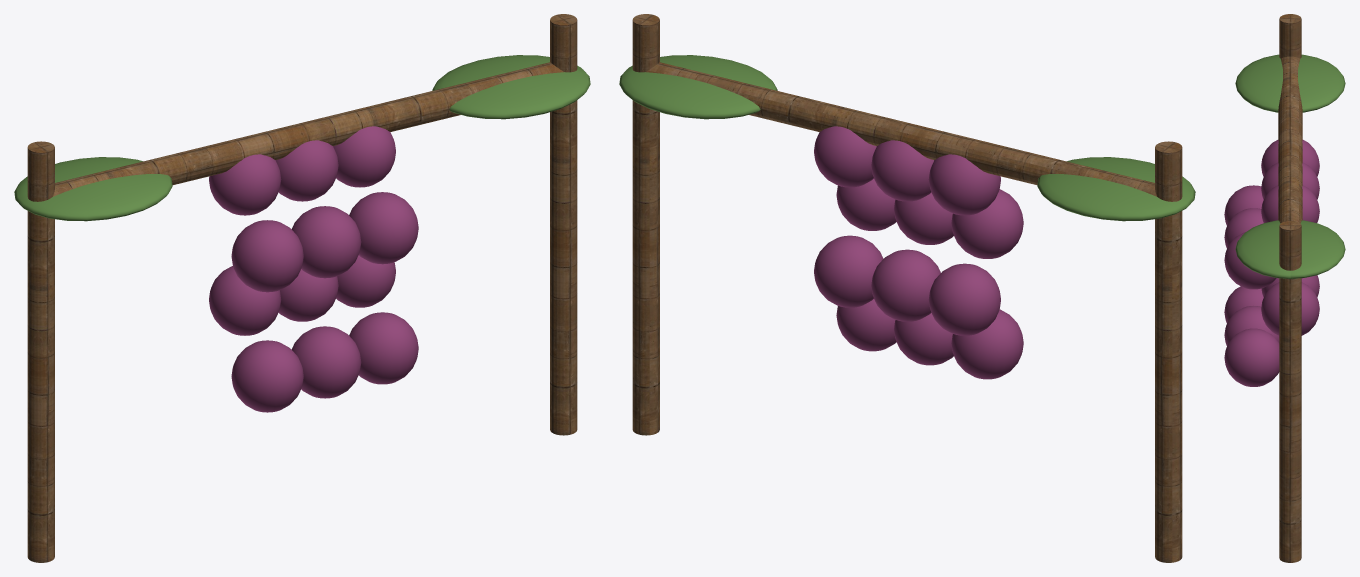
Rendered from videira.glb.
The picture shows the model from 3 angles, left to right: view 1: azimuth 30°, elevation 25°; view 2: azimuth 150°, elevation 25°; view 3: azimuth 270°, elevation 25°; orthographic projection. The views are drawn at different scales.
Visible parts, largest first — view 1: Estaca, Estaca.001, Ramo, Folha.001, Folha, Uva.009, Uva.003, Uva.010, Uva.011, Uva.004, Uva.005, Uva.006 (+5 smaller); view 2: Estaca, Estaca.001, Ramo, Folha.001, Folha, Uva.006, Uva.008, Uva.007, Uva.009, Uva.003, Uva, Uva.001 (+5 smaller); view 3: Estaca.001, Folha.001, Folha, Ramo, Uva.011, Uva.008, Uva.005, Uva.002, Estaca, Uva.010, Uva.003, Uva.001 (+4 smaller).
Part boxes in pixels (x1=…): Estaca: x1=27, y1=141, x2=54, y2=562; Estaca.001: x1=550, y1=14, x2=577, y2=435; Ramo: x1=53, y1=62, x2=563, y2=196; Folha.001: x1=432, y1=55, x2=590, y2=119; Folha: x1=14, y1=157, x2=172, y2=221; Uva.009: x1=231, y1=340, x2=303, y2=412; Uva.003: x1=231, y1=220, x2=303, y2=292; Uva.010: x1=291, y1=326, x2=361, y2=398; Uva.011: x1=349, y1=312, x2=418, y2=384; Uva.004: x1=291, y1=206, x2=361, y2=278; Uva.005: x1=349, y1=192, x2=418, y2=264; Uva.006: x1=209, y1=266, x2=281, y2=335; Estaca: x1=1155, y1=141, x2=1182, y2=562; Estaca.001: x1=632, y1=14, x2=659, y2=435; Ramo: x1=646, y1=62, x2=1156, y2=196; Folha.001: x1=619, y1=55, x2=777, y2=119; Folha: x1=1037, y1=157, x2=1195, y2=221; Uva.006: x1=928, y1=263, x2=1000, y2=335; Uva.008: x1=814, y1=235, x2=883, y2=307; Uva.007: x1=871, y1=249, x2=940, y2=321; Uva.009: x1=951, y1=309, x2=1023, y2=379; Uva.003: x1=951, y1=189, x2=1023, y2=258; Uva: x1=928, y1=154, x2=1000, y2=215; Uva.001: x1=871, y1=140, x2=933, y2=201; Estaca.001: x1=1279, y1=221, x2=1301, y2=562; Folha.001: x1=1235, y1=220, x2=1345, y2=278; Folha: x1=1235, y1=54, x2=1345, y2=112; Ramo: x1=1278, y1=56, x2=1302, y2=223; Uva.011: x1=1224, y1=328, x2=1279, y2=386; Uva.008: x1=1261, y1=282, x2=1319, y2=335; Uva.005: x1=1224, y1=232, x2=1276, y2=289; Uva.002: x1=1261, y1=185, x2=1319, y2=222; Estaca: x1=1279, y1=14, x2=1301, y2=58; Uva.010: x1=1224, y1=306, x2=1279, y2=345; Uva.003: x1=1224, y1=185, x2=1263, y2=225; Uva.001: x1=1261, y1=162, x2=1319, y2=199.
Bounding box in the file's own units: 2.15 × 1.5 × 0.495.
Materials: 3 (1 with a texture image).
